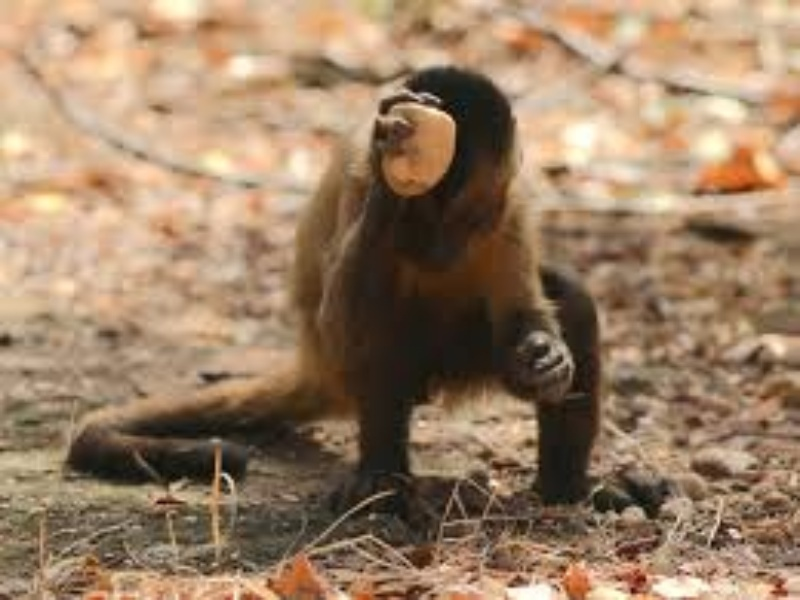monkey: (143, 40, 611, 508)
